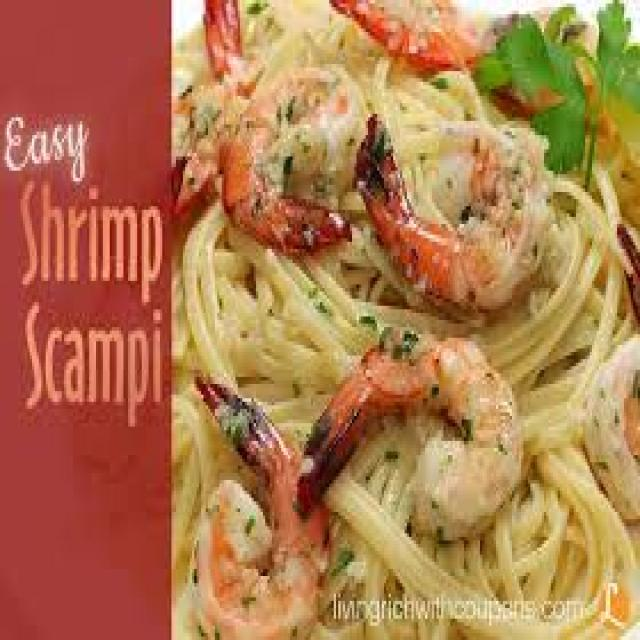Spinach bagged/loose: (305, 333, 518, 538), (362, 131, 555, 295), (219, 60, 353, 250), (195, 411, 298, 638)
